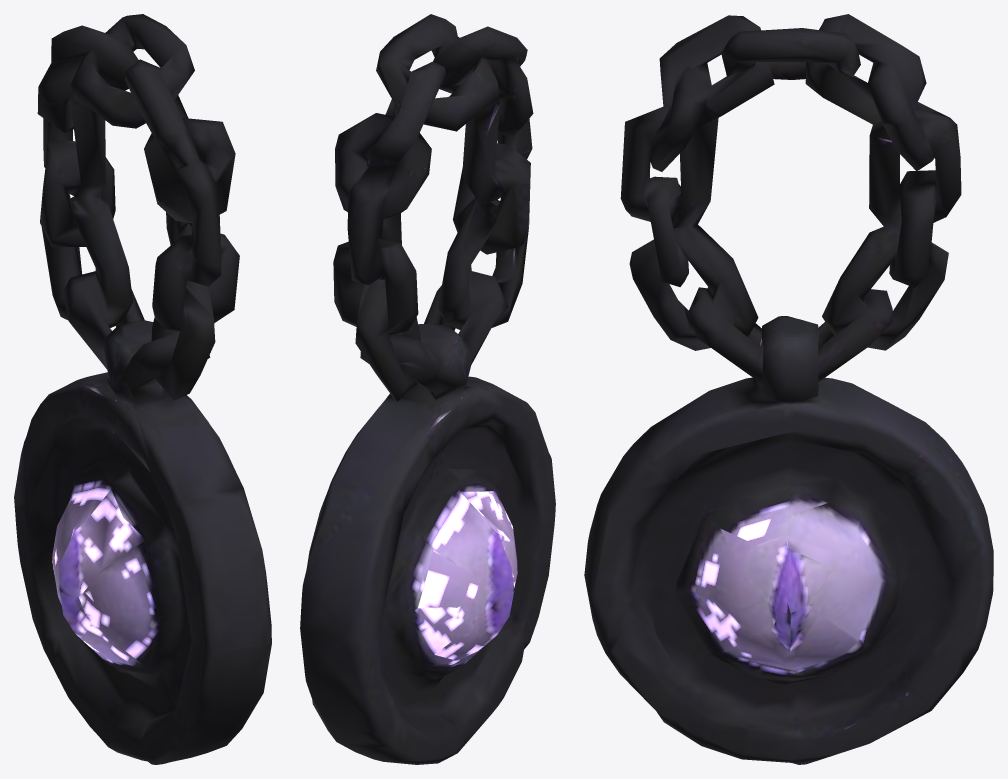
The model's file is uq_amu_abyss-Cw2Gozyw.glb.
3 renders of one model, left to right at view 1: azimuth 30°, elevation 25°; view 2: azimuth 150°, elevation 25°; view 3: azimuth 270°, elevation 25°, orthographic. The views are drawn at different scales.
Parts seen in each view (by area): view 1: tripo_node_8e006cf9-2ade-4e97-9c24-952dbb430c3e; view 2: tripo_node_8e006cf9-2ade-4e97-9c24-952dbb430c3e; view 3: tripo_node_8e006cf9-2ade-4e97-9c24-952dbb430c3e.
Boxes of the visible parts, x1,y1,x2,y2 form: tripo_node_8e006cf9-2ade-4e97-9c24-952dbb430c3e: (14,14,271,764); tripo_node_8e006cf9-2ade-4e97-9c24-952dbb430c3e: (300,14,555,764); tripo_node_8e006cf9-2ade-4e97-9c24-952dbb430c3e: (584,14,993,764).
Size of the model in its own units: 0.2456 by 1 by 0.5076.
1 material, 1 textured.
